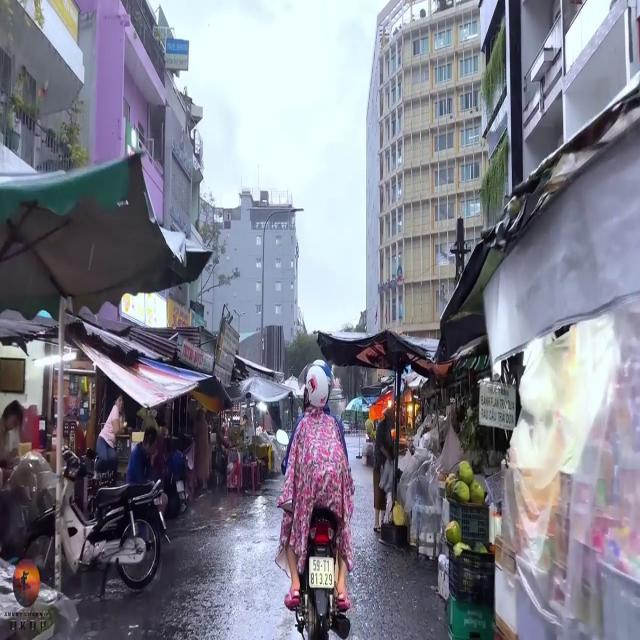bien_trang: (306, 554, 336, 590)
